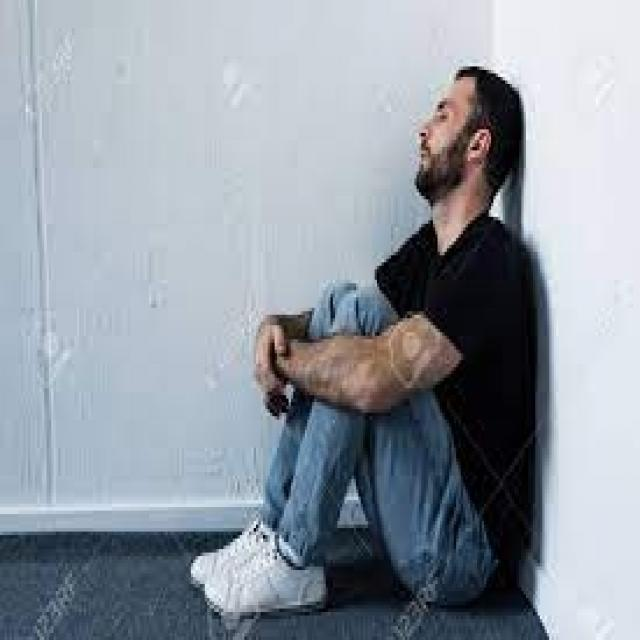sitting: (198, 56, 538, 636)
